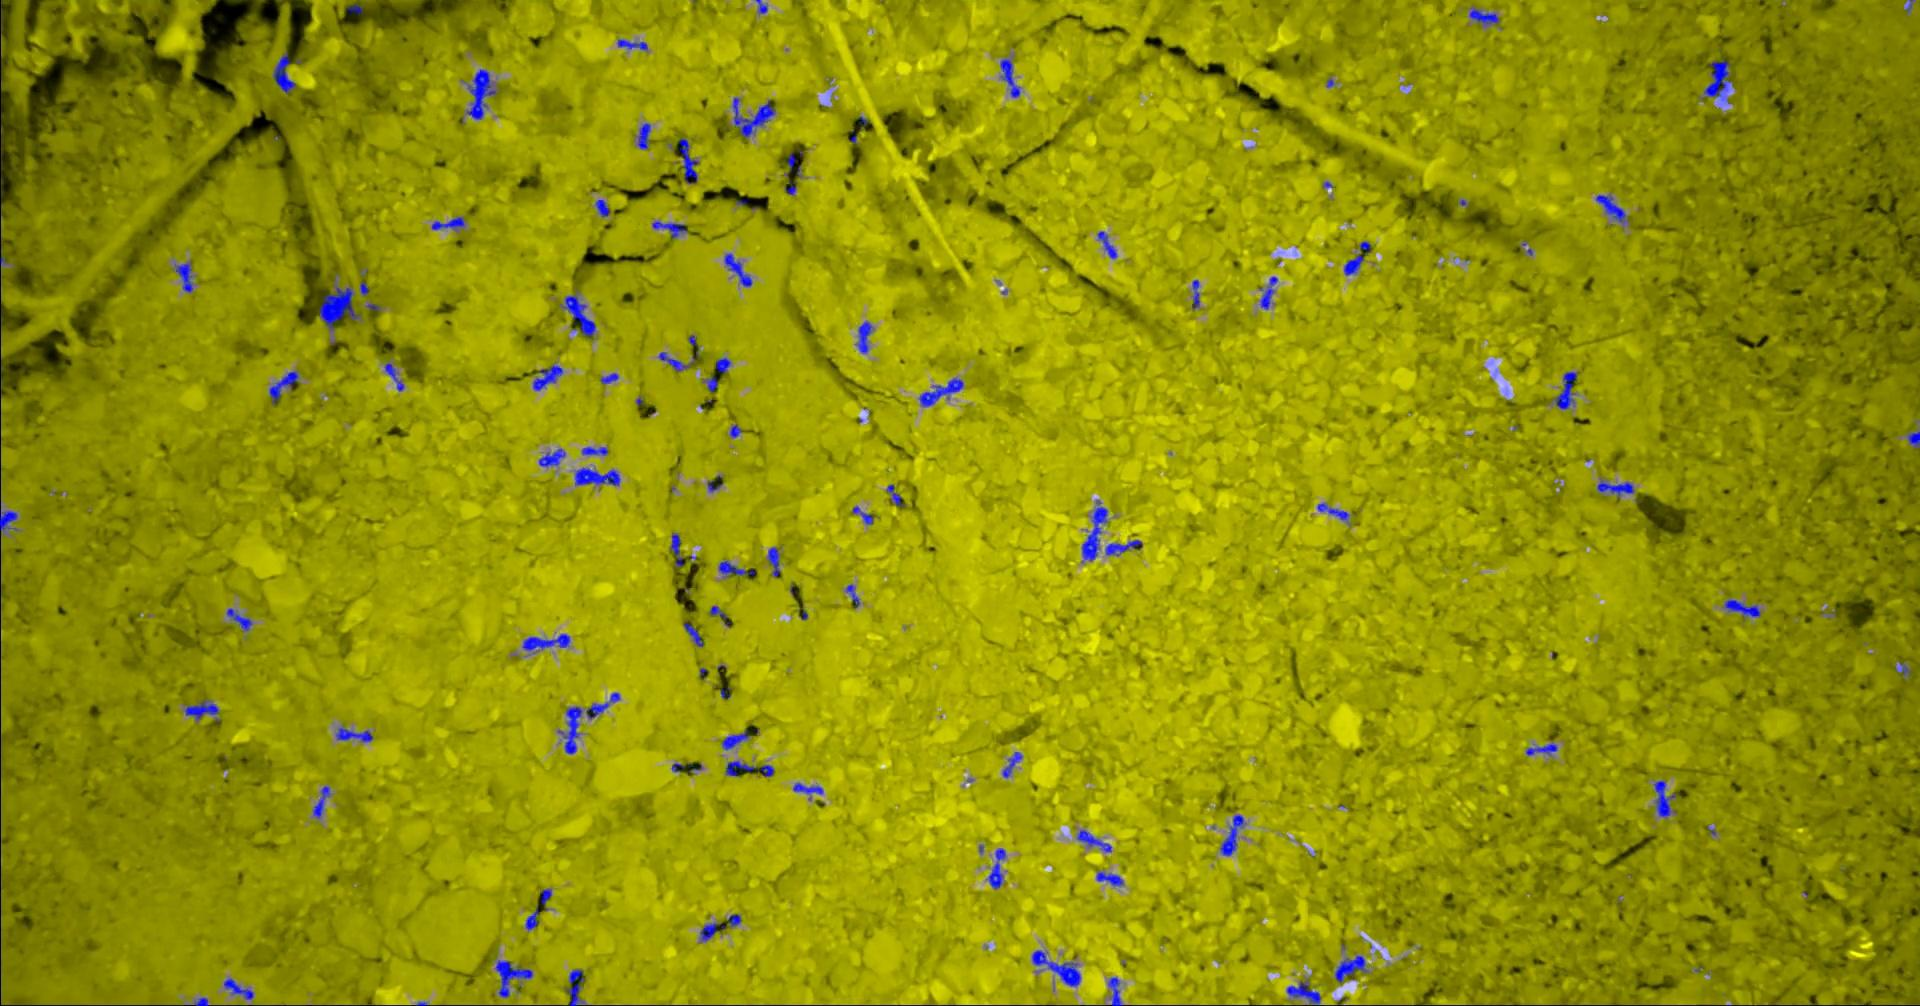ant: (557, 702, 608, 753), (731, 97, 775, 137), (319, 285, 358, 329), (1031, 950, 1079, 986), (1081, 499, 1107, 561), (560, 293, 596, 337), (466, 69, 495, 119), (495, 959, 532, 997), (918, 377, 963, 406), (1703, 58, 1732, 99), (268, 370, 298, 404), (1219, 815, 1243, 855), (678, 137, 698, 183), (723, 253, 750, 286), (273, 51, 295, 93), (1335, 955, 1368, 982), (1554, 371, 1577, 409), (1286, 979, 1321, 1005), (1595, 194, 1625, 222), (522, 633, 569, 650), (574, 467, 620, 485), (532, 365, 563, 390), (1653, 780, 1675, 815), (1076, 829, 1111, 851), (985, 848, 1004, 888), (999, 58, 1018, 97), (1596, 479, 1633, 498), (565, 969, 584, 1005), (184, 700, 218, 719), (658, 351, 690, 371), (1724, 600, 1760, 617), (223, 977, 253, 998), (1258, 276, 1277, 309), (1103, 539, 1142, 555), (651, 221, 687, 238), (721, 729, 749, 749), (717, 560, 754, 575), (226, 608, 251, 630), (174, 262, 192, 292), (383, 363, 403, 391), (1317, 503, 1349, 520), (312, 785, 329, 817), (335, 727, 372, 741), (1097, 231, 1116, 258), (1002, 751, 1021, 777), (683, 622, 703, 647), (538, 448, 565, 466), (698, 922, 725, 940), (709, 605, 730, 626), (856, 321, 871, 352), (792, 782, 823, 798), (1469, 8, 1498, 23), (725, 760, 754, 775), (1107, 976, 1123, 1005), (430, 216, 463, 229), (670, 533, 683, 567), (1343, 254, 1363, 276), (885, 484, 904, 506), (851, 506, 872, 525), (0, 509, 17, 533), (1095, 871, 1123, 885), (1525, 743, 1557, 754), (767, 547, 780, 575), (637, 122, 650, 149), (616, 39, 648, 50), (844, 584, 858, 607), (524, 908, 538, 930), (670, 762, 702, 771), (594, 199, 610, 216), (714, 357, 730, 372), (540, 888, 551, 909), (582, 446, 607, 455), (599, 372, 618, 384), (1191, 279, 1199, 307), (705, 376, 717, 391), (707, 479, 723, 492), (759, 763, 775, 776), (1907, 431, 1919, 447), (728, 913, 742, 926), (345, 3, 362, 13), (729, 424, 742, 437)
